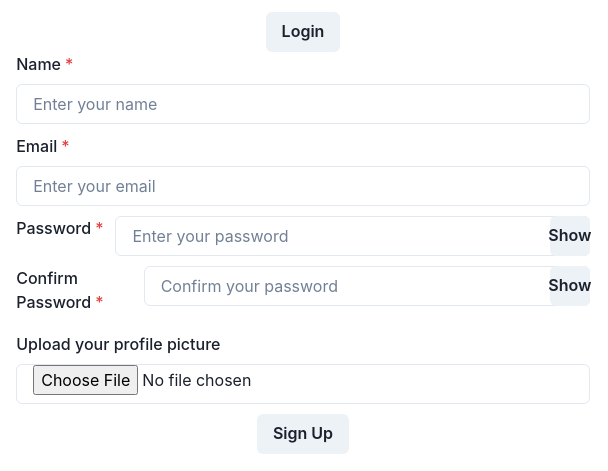
Test: Authentication › toggles to login form when Login is clicked
Click the button "Login" at (304,32), box [266,12,341,52]
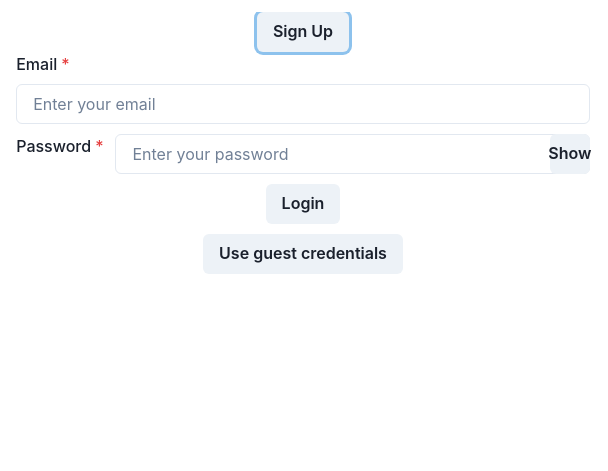
Expected: the field with placeholder "Enter your email" is shown, [16,84,590,124]
Now the button "Login" is shown, box [266,184,340,224]
